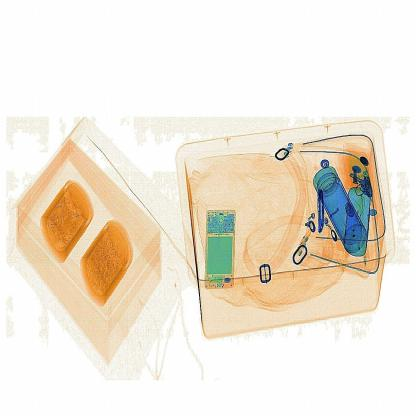knife: (311, 177, 334, 239)
